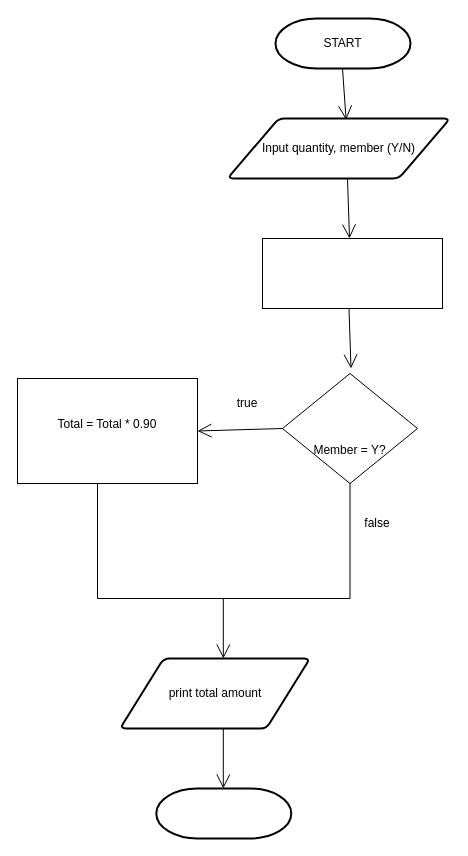
This 468x856 diagram has some shape labels left out. The shapes that lost their labels are listed below. From the top down, each one's centre as x and y in pixels, then its label:
At (x=352, y=273): "Total = quantity * RM4.50".
At (x=223, y=813): "STOP".
